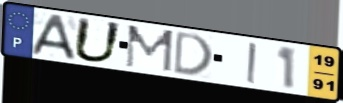1: (275, 45, 296, 91)
A: (28, 14, 78, 61)
D: (171, 29, 215, 77)
I: (245, 41, 258, 86)
M: (123, 24, 176, 75)
U: (71, 16, 125, 65)
